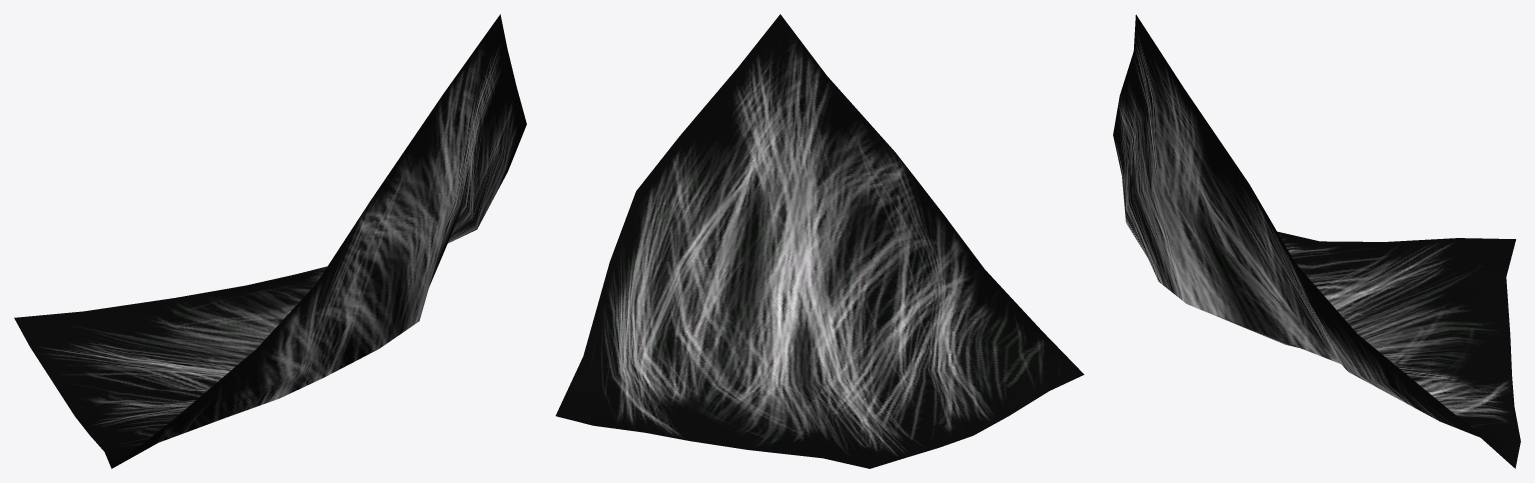
File: SWORDLIGHT20_PS-AREA01_CORNERWEB09.fbx
3 renders of one model, left to right at view 1: azimuth 30°, elevation 25°; view 2: azimuth 150°, elevation 25°; view 3: azimuth 270°, elevation 25°, orthographic. The views are drawn at different scales.
Parts seen in each view (by area): view 1: SWORDLIGHT20_PS-AREA01_CORNERWEB09; view 2: SWORDLIGHT20_PS-AREA01_CORNERWEB09; view 3: SWORDLIGHT20_PS-AREA01_CORNERWEB09.
Boxes of the visible parts, box(x1,y1,x2,y2) form: SWORDLIGHT20_PS-AREA01_CORNERWEB09: box(14, 14, 526, 468); SWORDLIGHT20_PS-AREA01_CORNERWEB09: box(555, 14, 1084, 468); SWORDLIGHT20_PS-AREA01_CORNERWEB09: box(1113, 14, 1520, 468).
Bounding box in the file's own units: 64896 × 49844 × 45418.
Materials: 1 (1 with a texture image).
